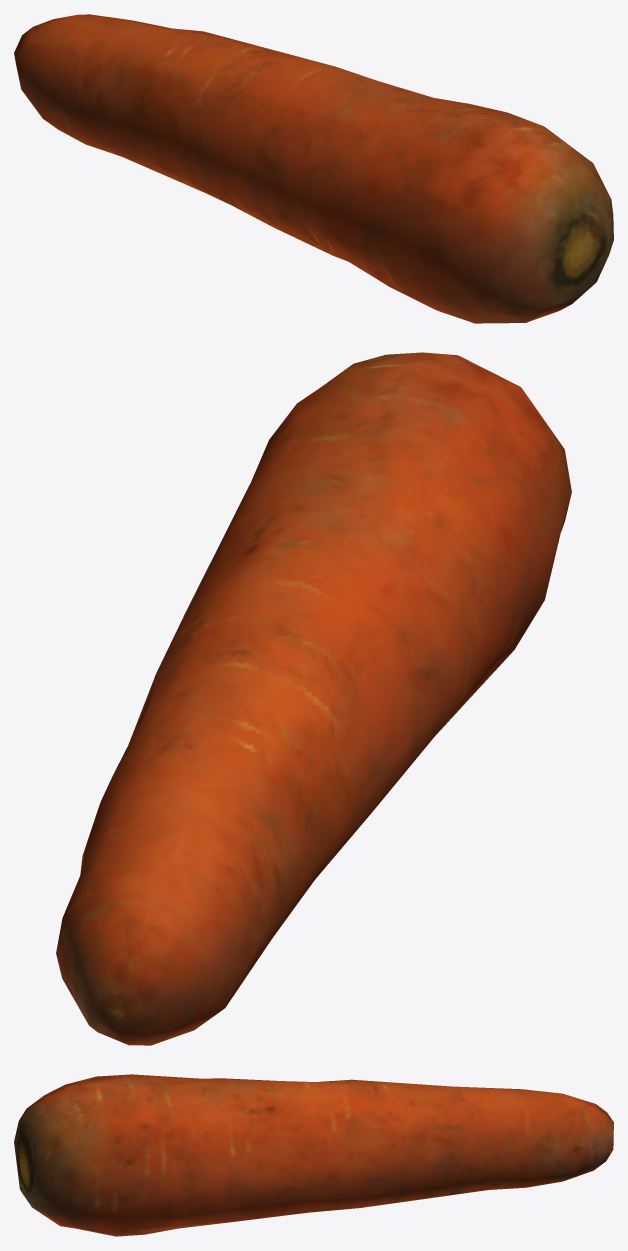
The model's file is ref_carrot.fbx.
3 views of the same model, one above another, from view 1: azimuth 30°, elevation 25°; view 2: azimuth 150°, elevation 25°; view 3: azimuth 270°, elevation 25° (orthographic). The views are drawn at different scales.
Parts seen in each view (by area): view 1: ref_carrot; view 2: ref_carrot; view 3: ref_carrot.
Part boxes in pixels (box(x1,y1,x2,y2)): ref_carrot: box(14, 14, 613, 323); ref_carrot: box(56, 352, 571, 1045); ref_carrot: box(14, 1074, 613, 1236).
Size of the model in its own units: 39.31 by 27.3 by 100.
Materials: 1 (1 with a texture image).
